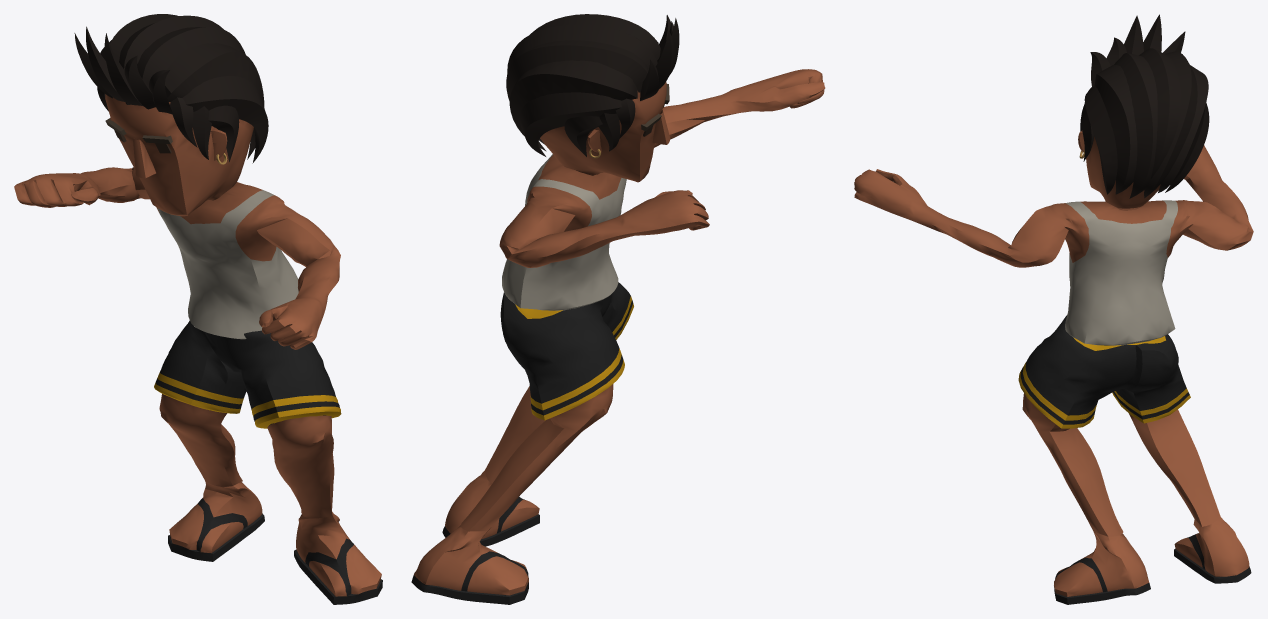
The model's file is av-halterofilista.glb.
3 renders of one model, left to right at view 1: azimuth 30°, elevation 25°; view 2: azimuth 150°, elevation 25°; view 3: azimuth 270°, elevation 25°, orthographic. The views are drawn at different scales.
Parts seen in each view (by area): view 1: Beach_Body; view 2: Beach_Body; view 3: Beach_Body.
Boxes of the visible parts, x1=… form: Beach_Body: x1=14, y1=14, x2=382, y2=604; Beach_Body: x1=411, y1=14, x2=825, y2=604; Beach_Body: x1=854, y1=14, x2=1253, y2=604.
Bounding box in the file's own units: 0.7722 × 1.45 × 1.06.
Materials: 1 (1 with a texture image).
